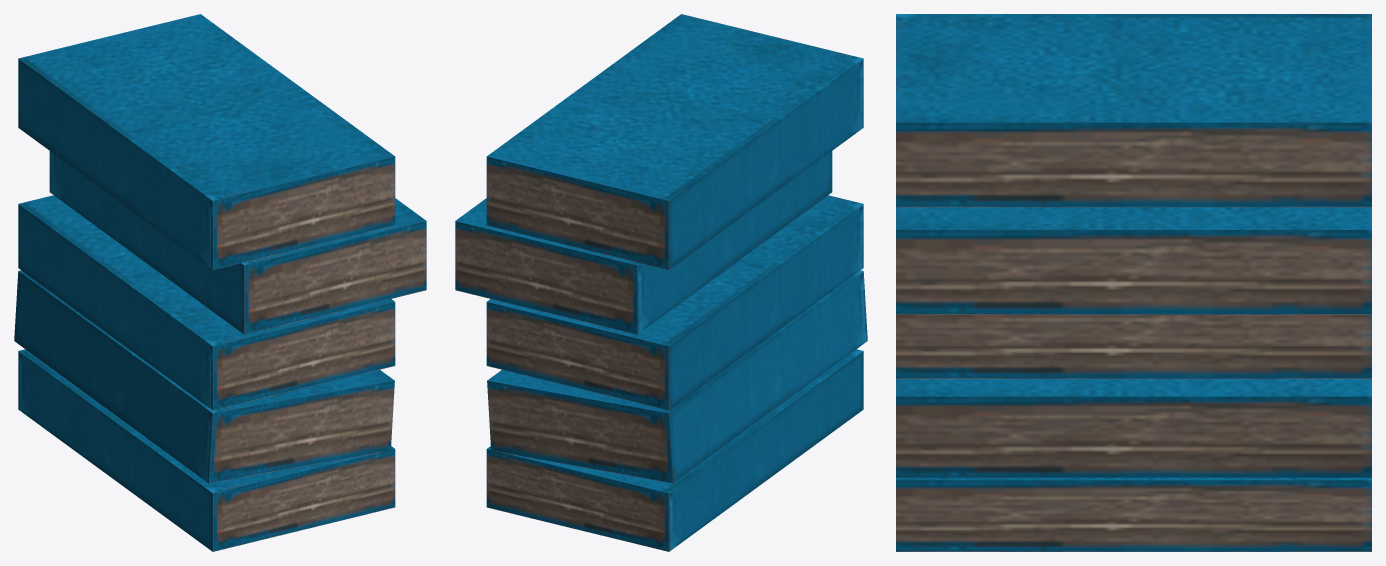
File: nt_2020_books_row02_LOD0.obj
The picture shows the model from 3 angles, left to right: view 1: azimuth 30°, elevation 25°; view 2: azimuth 150°, elevation 25°; view 3: azimuth 270°, elevation 25°; orthographic projection. The views are drawn at different scales.
Parts seen in each view (by area): view 1: mtl_nt_2020_books; view 2: mtl_nt_2020_books; view 3: mtl_nt_2020_books.
Boxes of the visible parts, box(x1,y1,x2,y2) form: mtl_nt_2020_books: box(14, 14, 426, 551); mtl_nt_2020_books: box(455, 14, 867, 551); mtl_nt_2020_books: box(896, 14, 1371, 551).
Bounding box in the file's own units: 16.57 × 25.5 × 25.63.
